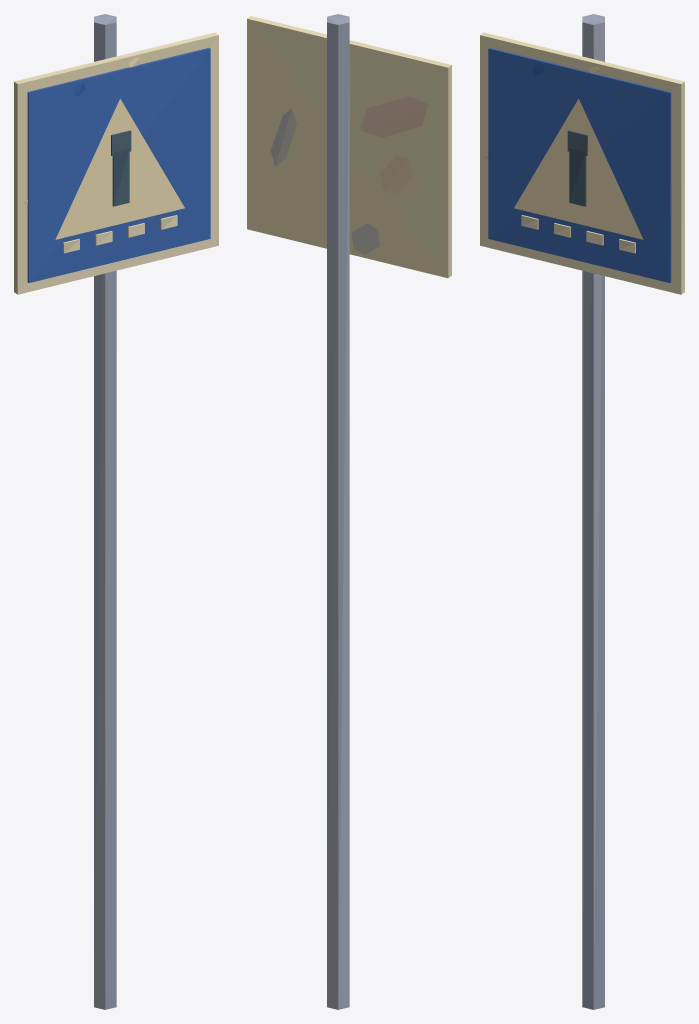
The model's file is HK_Sign_Crosswalk.glb.
3 renders of one model, left to right at view 1: azimuth 30°, elevation 25°; view 2: azimuth 150°, elevation 25°; view 3: azimuth 330°, elevation 25°, orthographic.
Parts seen in each view (by area): view 1: HK_Sign_Crosswalk; view 2: HK_Sign_Crosswalk; view 3: HK_Sign_Crosswalk.
Boxes of the visible parts, <box> form: HK_Sign_Crosswalk: <box>14,14,218,1009</box>; HK_Sign_Crosswalk: <box>247,14,451,1009</box>; HK_Sign_Crosswalk: <box>480,14,684,1009</box>.
Size of the model in its own units: 0.62 by 2.9 by 0.1178.
